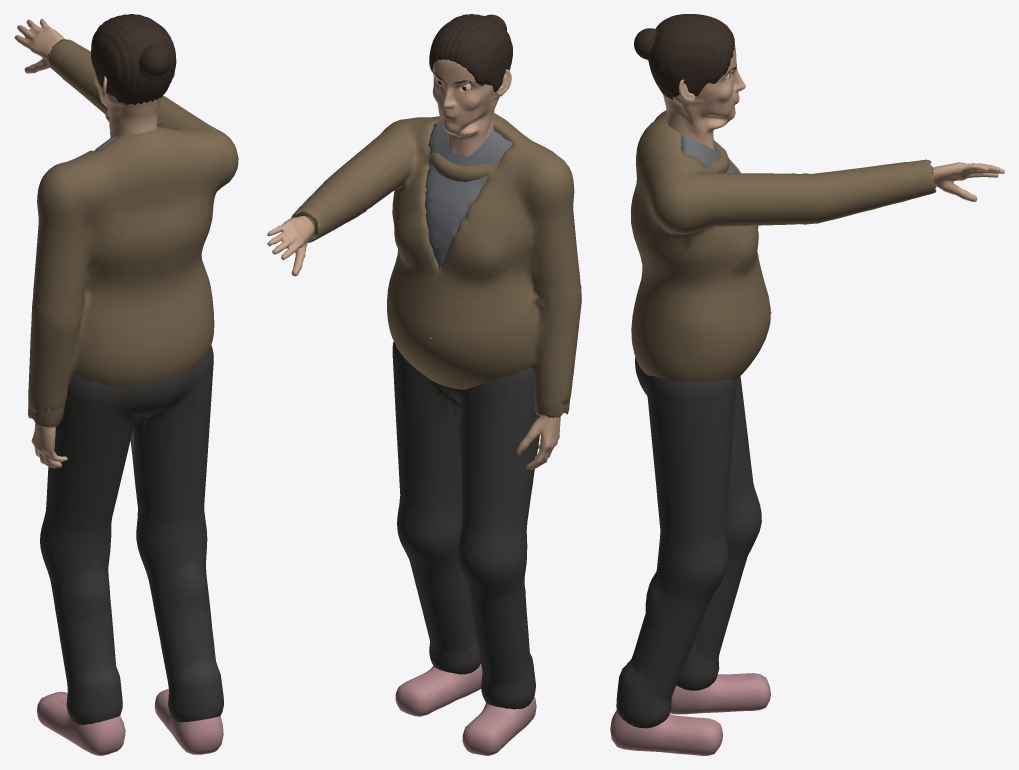
File: slippers.glb
3 views of the same model, side by side, from view 1: azimuth 30°, elevation 25°; view 2: azimuth 150°, elevation 25°; view 3: azimuth 270°, elevation 25° (orthographic). The views are drawn at different scales.
Visible parts, largest first — view 1: slippers_body, slippers_head, slippers_hands; view 2: slippers_body, slippers_head, slippers_hands; view 3: slippers_body, slippers_head, slippers_hands.
Boxes of the visible parts, x1,y1,x2,y2 form: slippers_body: (28,46,238,755); slippers_head: (91,14,176,137); slippers_hands: (14,19,81,468); slippers_body: (298,113,581,755); slippers_head: (429,14,512,156); slippers_hands: (267,203,570,469); slippers_body: (610,110,918,755); slippers_head: (634,14,745,150); slippers_hands: (904,159,1004,201).
Bounding box in the file's own units: 0.483 × 1.65 × 0.8318.
